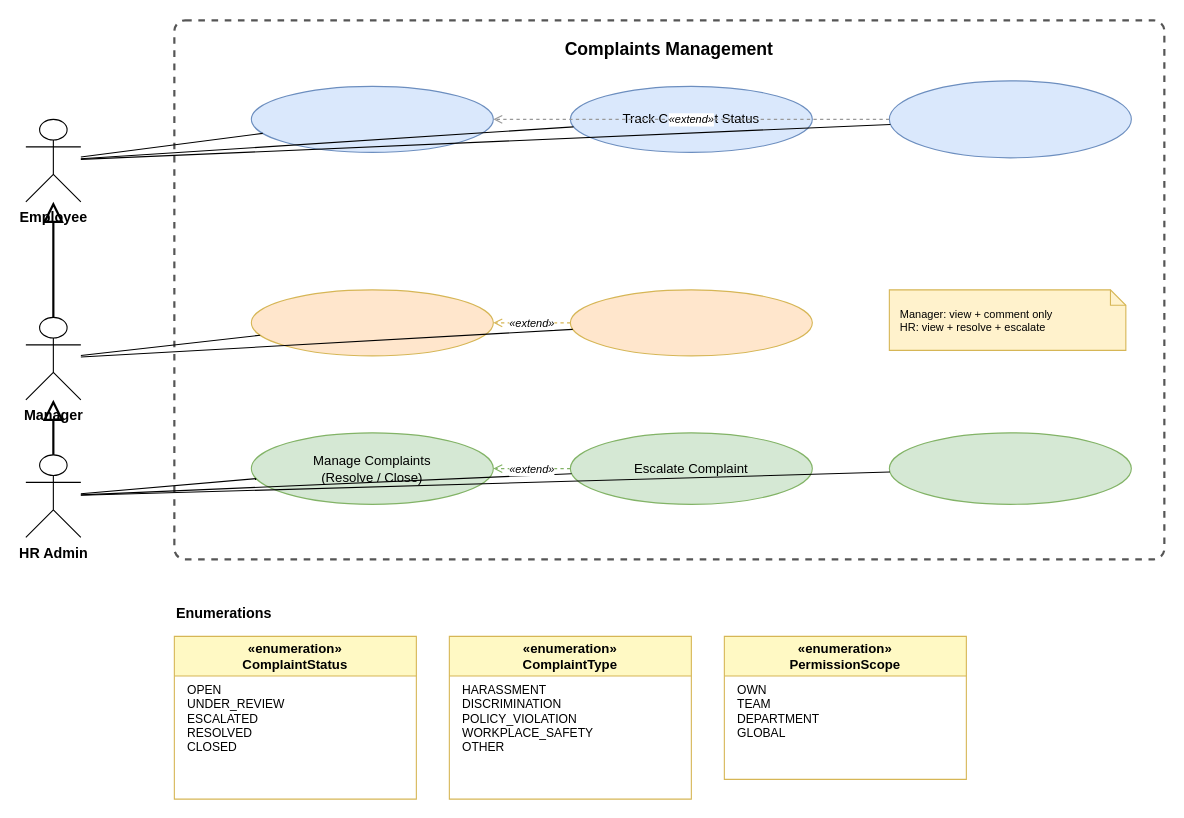
Image size: 1184x818. Some labels were removed from this diagram. Each missing label, with the centre of its shape:
"Add Comment on Complaint" belongs at point (690, 322).
"File Anonymous Complaint" belongs at point (1009, 119).
"File Complaint" belongs at point (371, 118).
"View All Complaints (Global)" belongs at point (1009, 468).
"View Team Complaints" belongs at point (371, 322).
